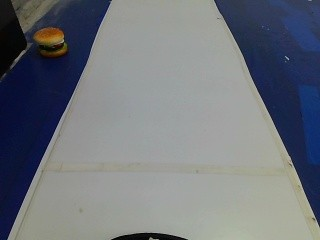burger: (25, 25, 74, 67)
